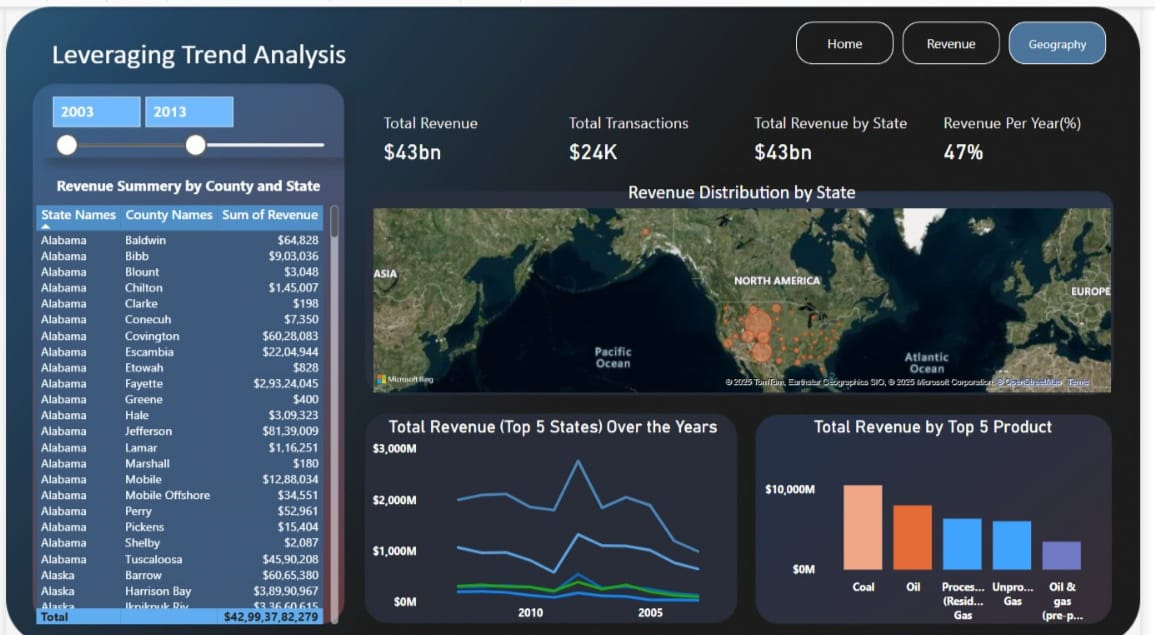

The dashboard page shown, as its layout file describes it:
{"tool":"powerbi","page":{"name":"Geography ","canvas":[1280,720],"ordinal":2},"visuals":[{"type":"tableEx","fields":{"Values":["revenue_data.State","revenue_data.County","Sum(revenue_data.Revenue)"]},"box":[28.1,218.8,351.7,483],"z":0},{"type":"pageNavigator","box":[890.9,17.2,350.1,48.5],"z":1000},{"type":"cardVisual","fields":{"Data":["Sum(revenue_data.Revenue)","revenue_data.Total Transactions","revenue_data.Total Revenue by State"]},"box":[409,90,631.6,115.3],"z":2000},{"type":"cardVisual","fields":{"Data":["revenue_data.Revenue Per Year"]},"box":[1040.5,90,192.6,115.3],"z":3000},{"type":"map","title":"Revenue Distribution by State","fields":{"Category":["revenue_data.State"],"Size":["Sum(revenue_data.Revenue)"]},"box":[409.5,195.4,842.5,243.8],"z":4000},{"type":"textbox","box":[51.6,184.4,317.3,45.3],"z":5000},{"type":"slicer","fields":{"Values":["revenue_analysis revenue_data.Calendar Year"]},"box":[40.6,90.7,339.2,79.7],"z":6000},{"type":"columnChart","title":"Total Revenue by Top 5 Product","fields":{"Category":["revenue_data.Product"],"Y":["Sum(revenue_data.Revenue)"],"Series":["revenue_data.Commodity"]},"box":[850.3,462.6,390.7,239.1],"z":7000},{"type":"lineChart","title":"Total Revenue (Top 5 States) Over the Years","fields":{"Y":["Sum(revenue_data.Revenue)"],"Category":["revenue_data.Calendar Year"],"Series":["revenue_data.State"]},"box":[407.9,462.6,418.9,239.1],"z":8000},{"type":"textbox","box":[46.9,28.1,362.6,62.5],"z":9000}]}

Visuals, with their boxes in screenshot pixels (x1, y1, x2, y2), scaled from the page's 1280x720 canvas onto the 1155x635 screenshot:
tableEx - revenue_data.State x revenue_data.County: 25 193 343 619
pageNavigator: 804 15 1120 58
cardVisual - Sum(revenue_data.Revenue) x revenue_data.Total Transactions: 369 79 939 181
cardVisual - revenue_data.Revenue Per Year: 939 79 1113 181
"Revenue Distribution by State" map: 370 172 1130 387
textbox: 47 163 333 203
slicer - revenue_analysis revenue_data.Calendar Year: 37 80 343 150
"Total Revenue by Top 5 Product" columnChart: 767 408 1120 619
"Total Revenue (Top 5 States) Over the Years" lineChart: 368 408 746 619
textbox: 42 25 370 80
